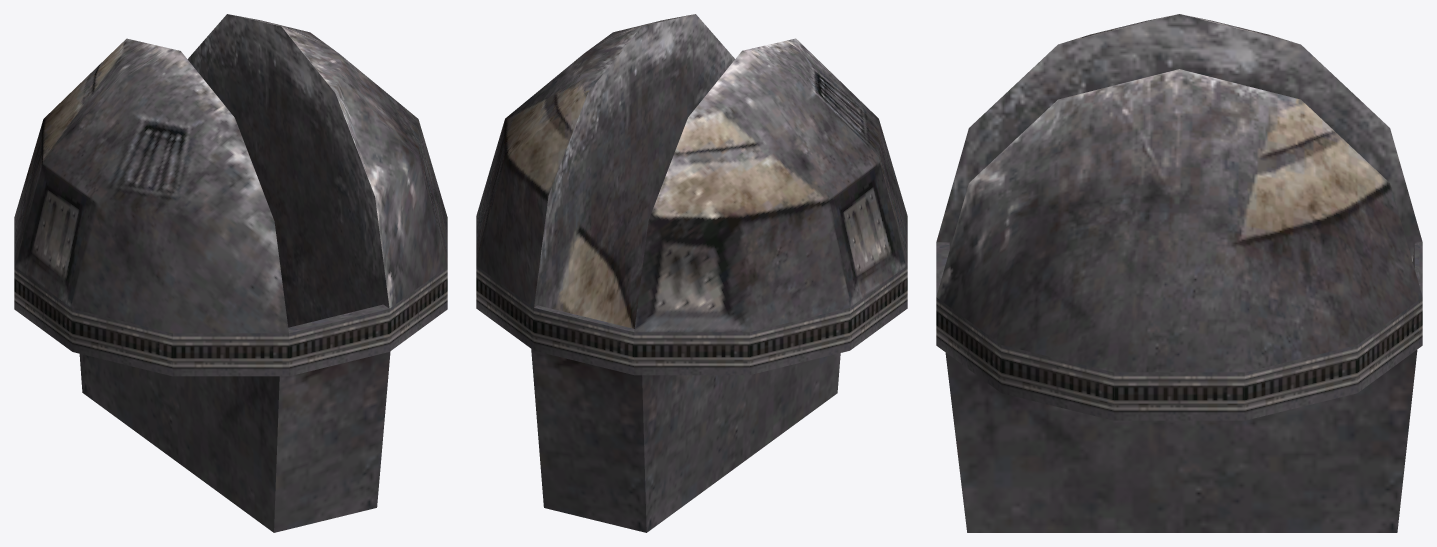
Rendered from kessel_mine_missileturret_base_s01_l1.fbx.
The picture shows the model from 3 angles, left to right: view 1: azimuth 30°, elevation 25°; view 2: azimuth 150°, elevation 25°; view 3: azimuth 270°, elevation 25°; orthographic projection. The views are drawn at different scales.
Visible parts, largest first — view 1: mesh_node; view 2: mesh_node; view 3: mesh_node.
Part boxes in pixels (x1=…): mesh_node: x1=14, y1=14, x2=447, y2=532; mesh_node: x1=476, y1=14, x2=907, y2=532; mesh_node: x1=936, y1=14, x2=1422, y2=532.
Bounding box in the file's own units: 3.46 × 3.63 × 3.46.
Materials: 1 (1 with a texture image).
